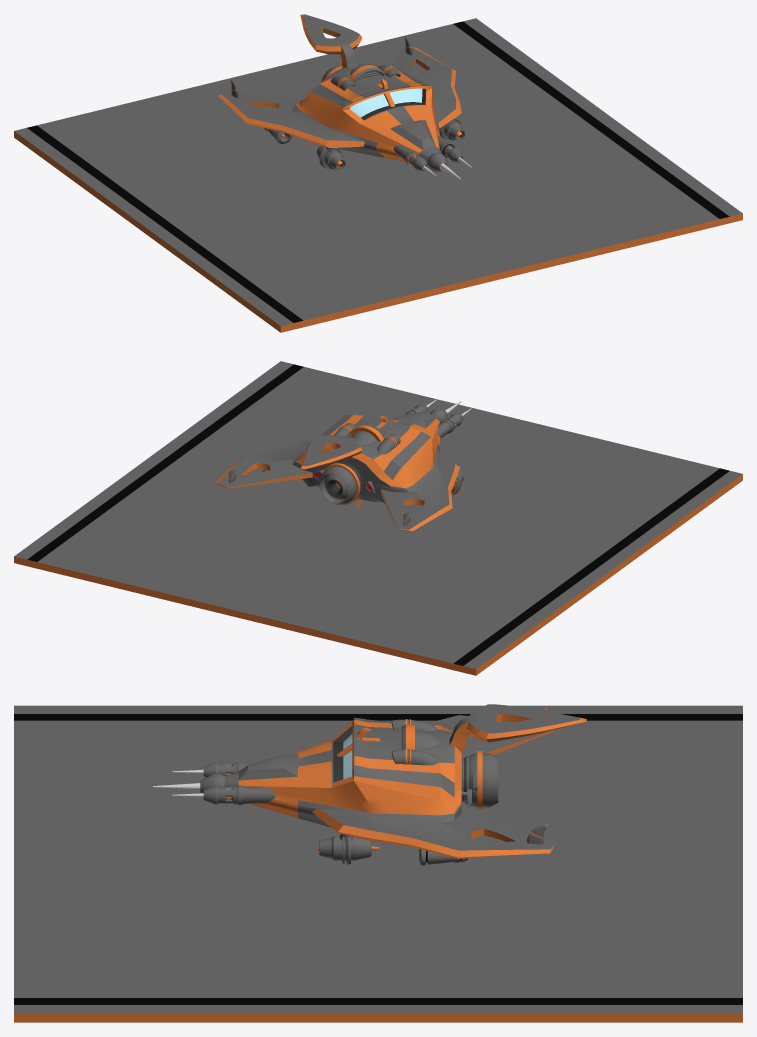
The model's file is Hovership.glb.
The picture shows the model from 3 angles, top to bottom: view 1: azimuth 30°, elevation 25°; view 2: azimuth 150°, elevation 25°; view 3: azimuth 270°, elevation 25°; orthographic projection. The views are drawn at different scales.
Parts seen in each view (by area): view 1: Cube, Cube.003; view 2: Cube, Cube.003; view 3: Cube, Cube.003.
Boxes of the visible parts, x1,y1,x2,y2 form: Cube: [14, 18, 742, 332]; Cube.003: [218, 14, 471, 179]; Cube: [14, 361, 742, 675]; Cube.003: [215, 399, 471, 531]; Cube: [14, 705, 742, 1022]; Cube.003: [153, 704, 586, 865].
Size of the model in its own units: 7.98 by 1.81 by 7.98.
